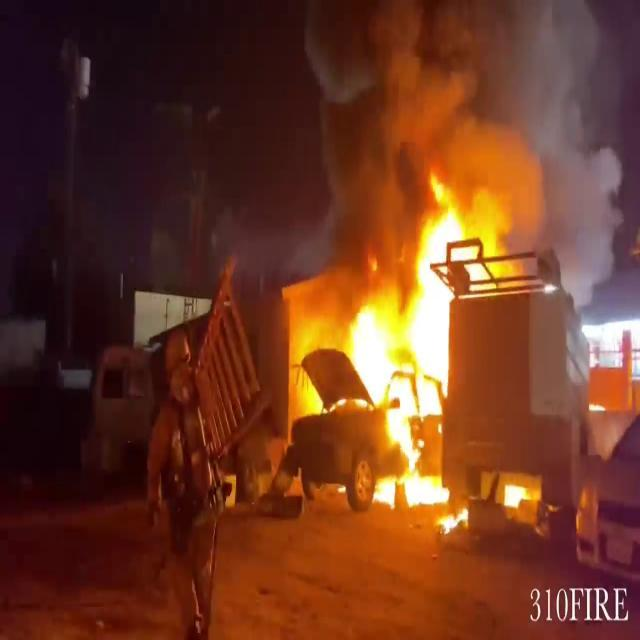Fire: (328, 167, 512, 515)
Smoke: (299, 0, 634, 212)
